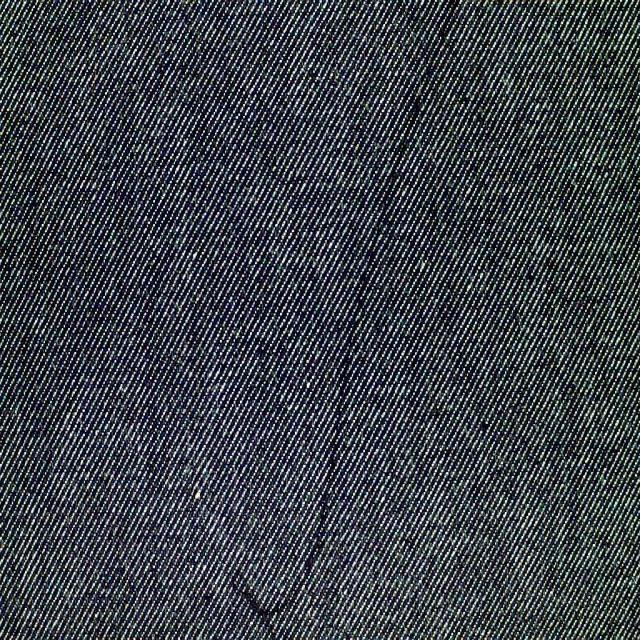defect: (220, 0, 470, 640)
